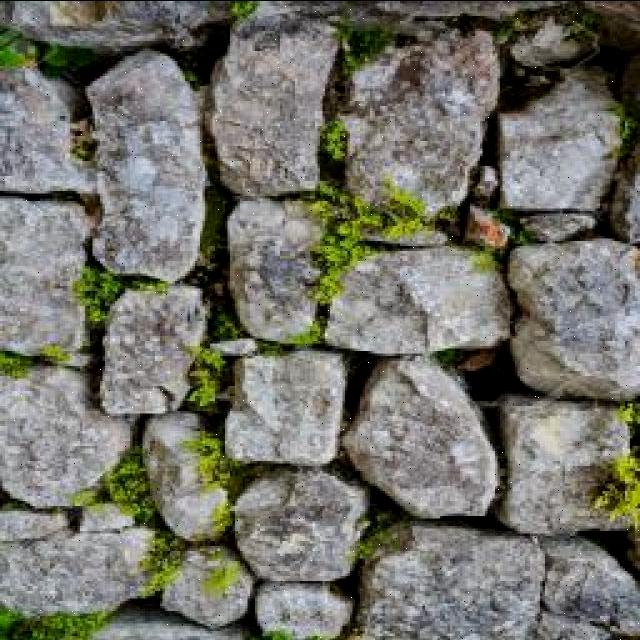corrosion: (1, 1, 638, 638)
vegetation: (206, 10, 347, 205), (301, 179, 444, 310), (222, 198, 338, 351), (1, 198, 102, 364), (92, 437, 238, 547), (2, 64, 101, 204), (158, 541, 257, 631), (341, 27, 430, 127), (499, 5, 614, 72), (79, 522, 167, 598), (0, 497, 142, 543), (226, 2, 340, 59), (103, 2, 234, 51), (72, 259, 166, 324), (0, 17, 101, 76), (371, 179, 448, 238), (329, 16, 398, 80), (177, 431, 237, 498), (605, 142, 640, 247), (11, 608, 121, 640), (510, 210, 602, 247), (184, 344, 232, 408), (607, 99, 639, 158), (0, 33, 38, 71), (0, 347, 39, 381)
